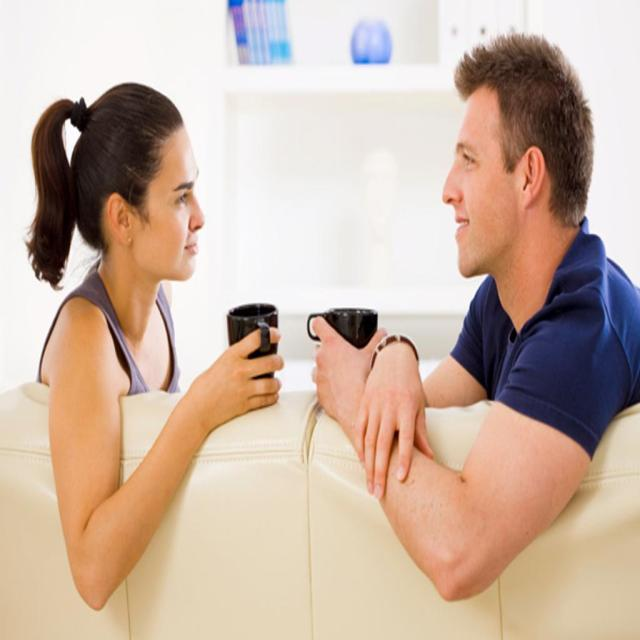Face: (432, 98, 511, 290), (145, 134, 211, 290)
